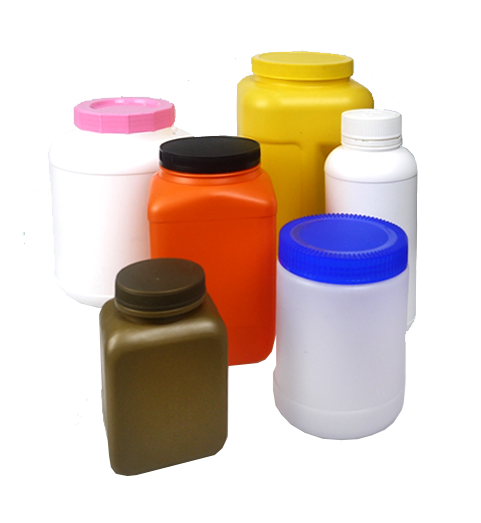medicinejar: (229, 45, 384, 353), (266, 215, 420, 443), (90, 255, 231, 478), (145, 134, 280, 366), (46, 97, 196, 296), (321, 98, 429, 332)
